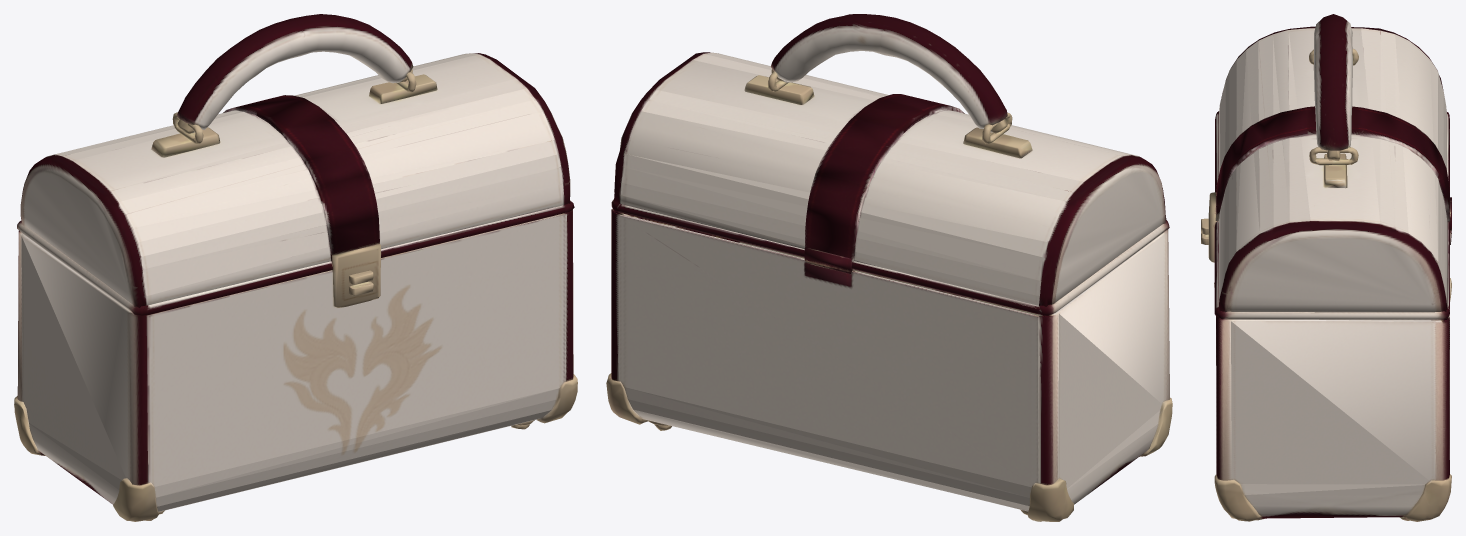
The model's file is boombag.obj.
3 views of the same model, side by side, from view 1: azimuth 30°, elevation 25°; view 2: azimuth 150°, elevation 25°; view 3: azimuth 270°, elevation 25° (orthographic). The views are drawn at different scales.
Visible parts, largest first — view 1: Meshy_AI_Flame_Heart_Crest_Box_0723171617_texture; view 2: Meshy_AI_Flame_Heart_Crest_Box_0723171617_texture; view 3: Meshy_AI_Flame_Heart_Crest_Box_0723171617_texture.
Part boxes in pixels (box(x1,y1,x2,y2)): Meshy_AI_Flame_Heart_Crest_Box_0723171617_texture: box(14, 14, 577, 521); Meshy_AI_Flame_Heart_Crest_Box_0723171617_texture: box(606, 14, 1172, 521); Meshy_AI_Flame_Heart_Crest_Box_0723171617_texture: box(1201, 14, 1451, 521).
Bounding box in the file's own units: 1 × 0.9043 × 0.5098.
1 material, 1 textured.
